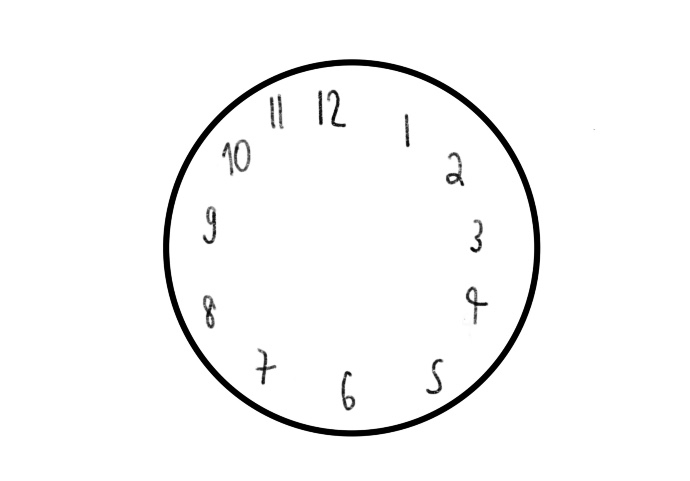eight: (202, 288, 220, 333)
eleven: (268, 94, 287, 131)
five: (425, 355, 448, 396)
four: (463, 283, 490, 328)
nine: (196, 201, 218, 249)
one: (399, 105, 415, 152)
seven: (252, 347, 278, 387)
six: (339, 366, 360, 417)
ten: (218, 139, 252, 177)
three: (466, 210, 485, 258)
twelve: (310, 87, 350, 129)
two: (442, 148, 468, 189)
